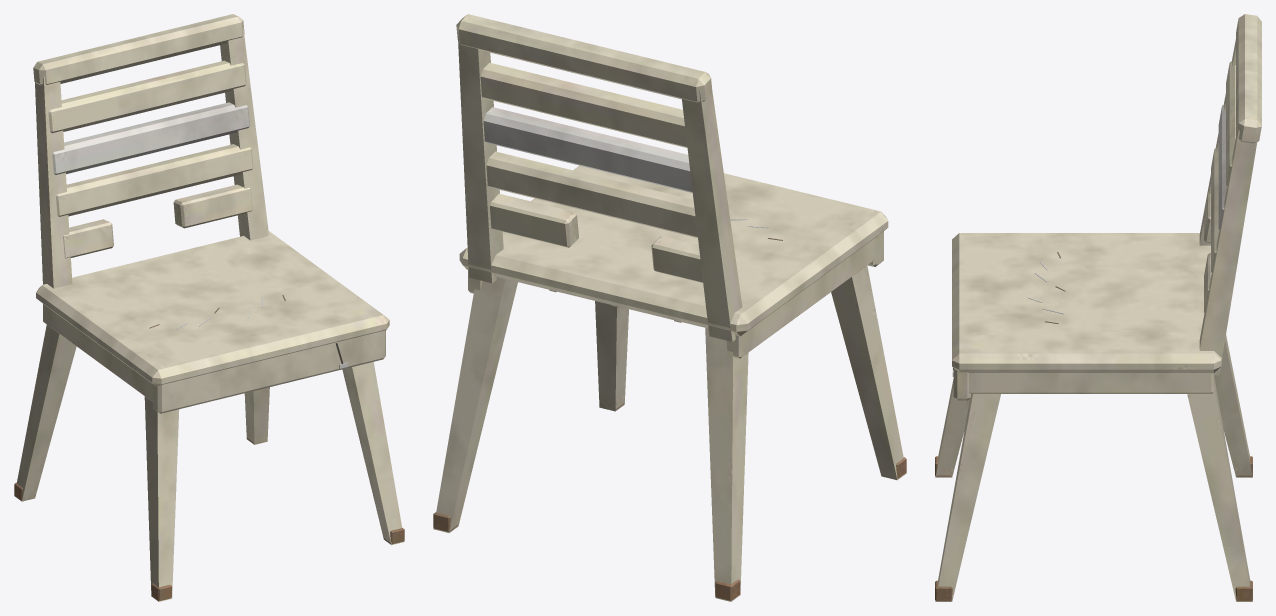
File: L29_plastic_chair_v2.glb
3 views of the same model, side by side, from view 1: azimuth 30°, elevation 25°; view 2: azimuth 150°, elevation 25°; view 3: azimuth 270°, elevation 25° (orthographic). The views are drawn at different scales.
Visible parts, largest first — view 1: Rounded molded seat; view 2: Rounded molded seat; view 3: Rounded molded seat.
Boxes of the visible parts, x1,y1,x2,y2 form: Rounded molded seat: (14,14,404,601); Rounded molded seat: (433,14,906,601); Rounded molded seat: (935,14,1261,601).
Size of the model in its own units: 0.5413 by 0.9 by 0.5672.
Materials: 4 (4 with a texture image).
